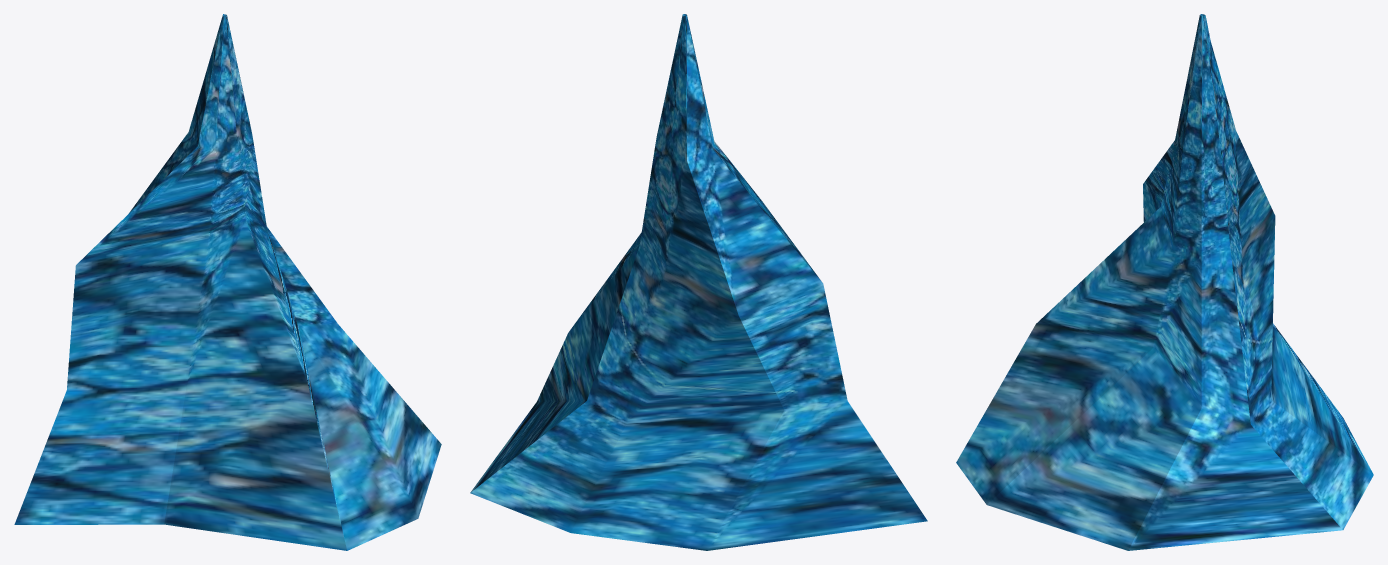
File: rock_blue.fbx
The picture shows the model from 3 angles, left to right: view 1: azimuth 30°, elevation 25°; view 2: azimuth 150°, elevation 25°; view 3: azimuth 270°, elevation 25°; orthographic projection. The views are drawn at different scales.
Visible parts, largest first — view 1: pCylinder1; view 2: pCylinder1; view 3: pCylinder1.
Boxes of the visible parts, <box> form: pCylinder1: <box>14,14,441,550</box>; pCylinder1: <box>470,14,927,550</box>; pCylinder1: <box>956,14,1373,550</box>.
Bounding box in the file's own units: 5.09 × 5.37 × 4.54.
Materials: 1 (1 with a texture image).
